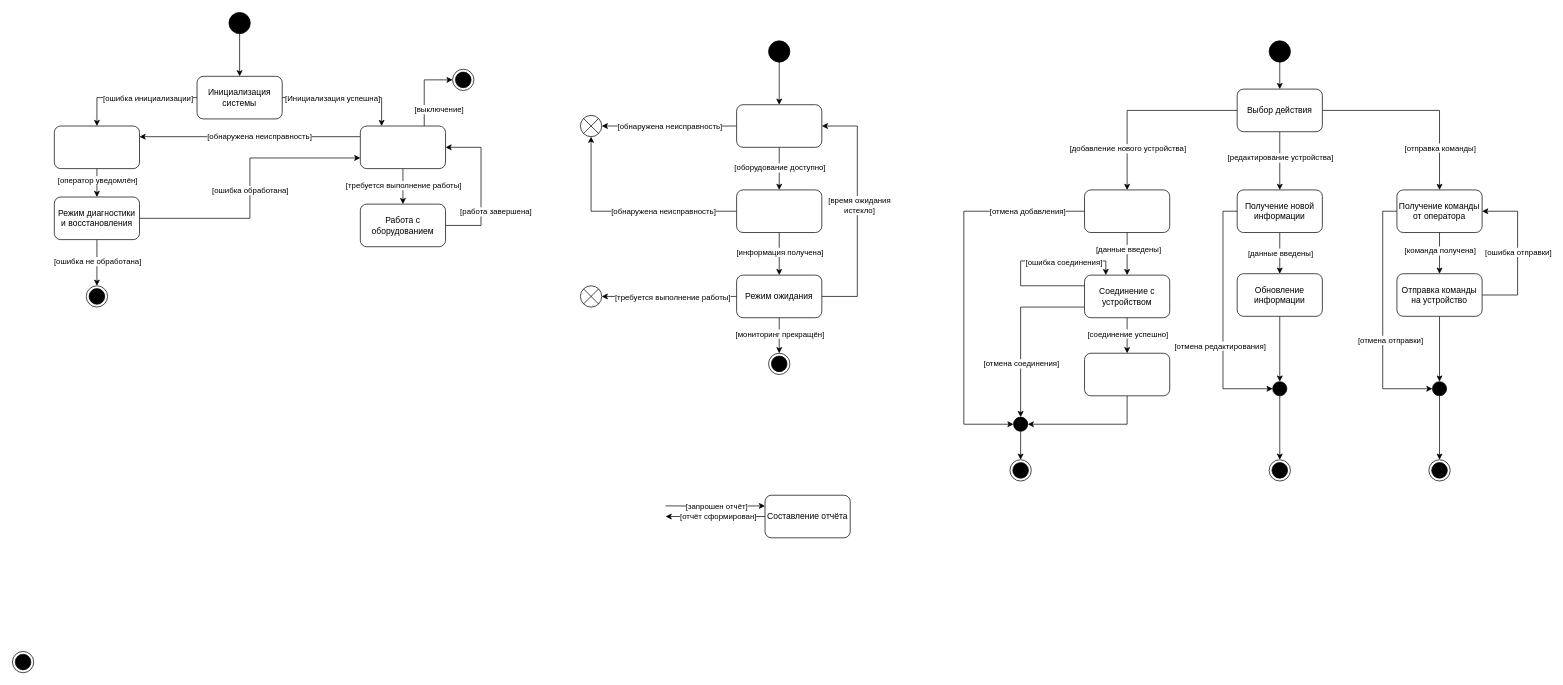
The diagram is 1563 pixels wide and 685 high, and some of its shapes have lost their labels. Here are the shapes that lost their labels. From the top down, the centre of each, then its label:
At point 779,125: "Опрос оборудования".
At point 97,147: "Логирование и оповещение".
At point 403,147: "Мониторинг".
At point 779,211: "Сбор информации о состоянии оборудования".
At point 1127,211: "Получение информации об устройстве".
At point 1127,374: "Добавление устройства в список отслеживаемых".
